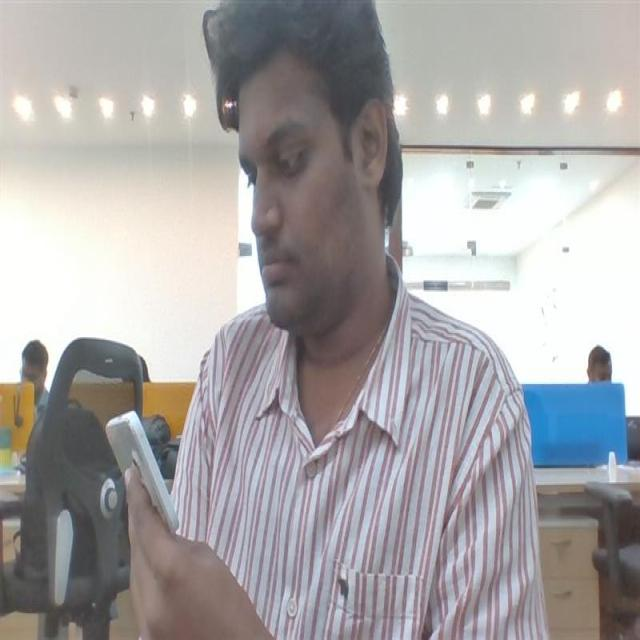phone: (102, 398, 180, 534)
